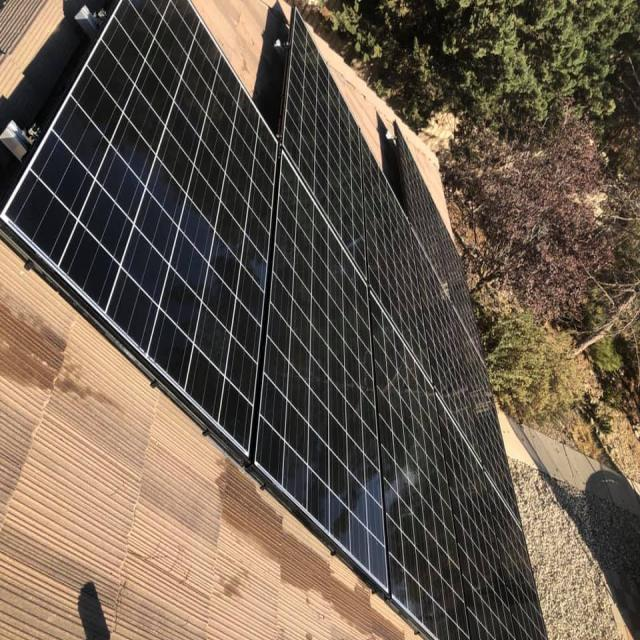clean-solar-panel: (0, 2, 545, 638)
